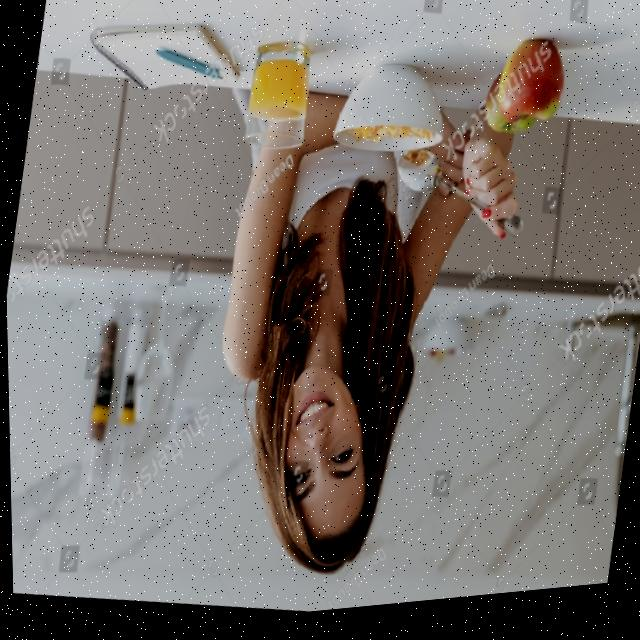eating-person: (165, 0, 588, 628)
